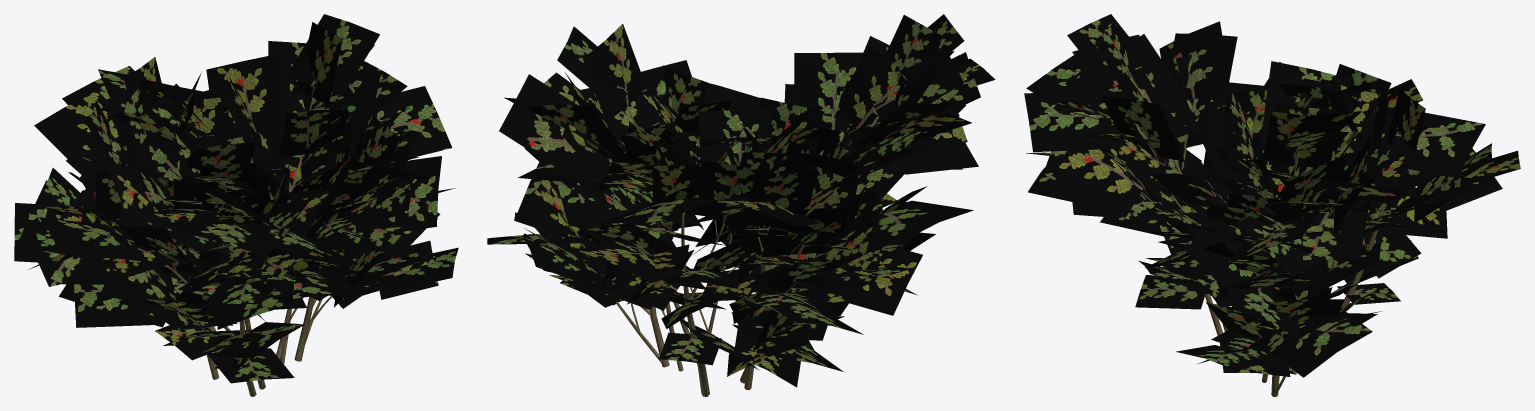
The model's file is sipek_1.glb.
The picture shows the model from 3 angles, left to right: view 1: azimuth 30°, elevation 25°; view 2: azimuth 150°, elevation 25°; view 3: azimuth 270°, elevation 25°; orthographic projection. The views are drawn at different scales.
Visible parts, largest first — view 1: sipek_1; view 2: sipek_1; view 3: sipek_1.
Part boxes in pixels (bbox=[...]): sipek_1: bbox=[14, 14, 458, 396]; sipek_1: bbox=[487, 14, 995, 396]; sipek_1: bbox=[1024, 14, 1520, 396].
Size of the model in its own units: 2.61 by 1.87 by 2.75.
2 materials, 2 textured.
